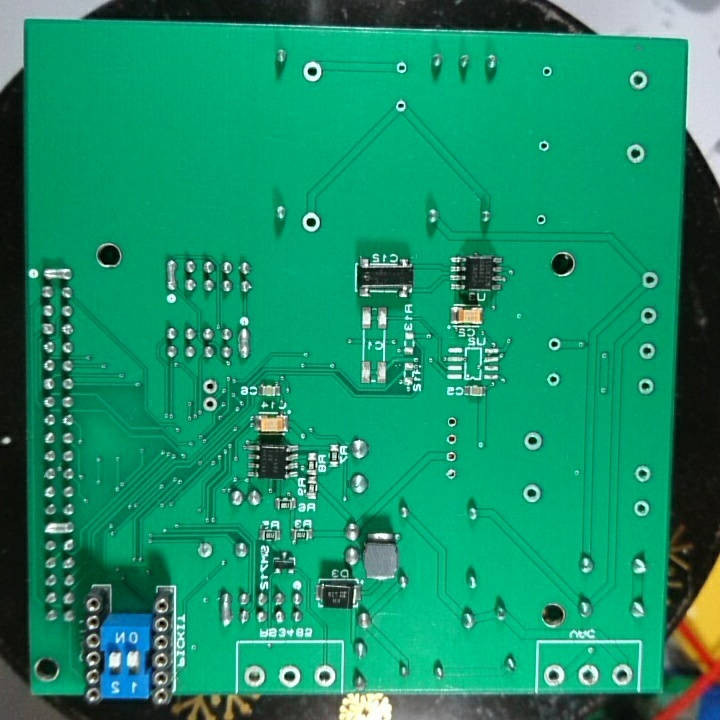F: (574, 660, 604, 690), (310, 660, 339, 689), (241, 662, 270, 691), (276, 662, 305, 690), (541, 660, 567, 689), (626, 66, 651, 95), (624, 140, 650, 167), (300, 58, 325, 85), (610, 661, 634, 689), (638, 266, 663, 292), (521, 429, 545, 455), (520, 480, 544, 506), (299, 211, 324, 235), (634, 340, 660, 363), (636, 305, 660, 327), (632, 497, 653, 520), (635, 376, 657, 397), (633, 463, 653, 486), (195, 539, 215, 562), (201, 395, 221, 415), (544, 367, 562, 389), (545, 334, 564, 354), (200, 376, 219, 396), (536, 138, 553, 158), (444, 463, 460, 484), (393, 97, 410, 115), (539, 63, 555, 80), (445, 414, 461, 430), (444, 431, 461, 446), (444, 448, 459, 465), (395, 58, 409, 76), (534, 212, 549, 228)
P: (42, 520, 78, 537), (217, 589, 233, 626), (235, 327, 252, 361), (39, 266, 73, 283), (163, 258, 179, 292)
